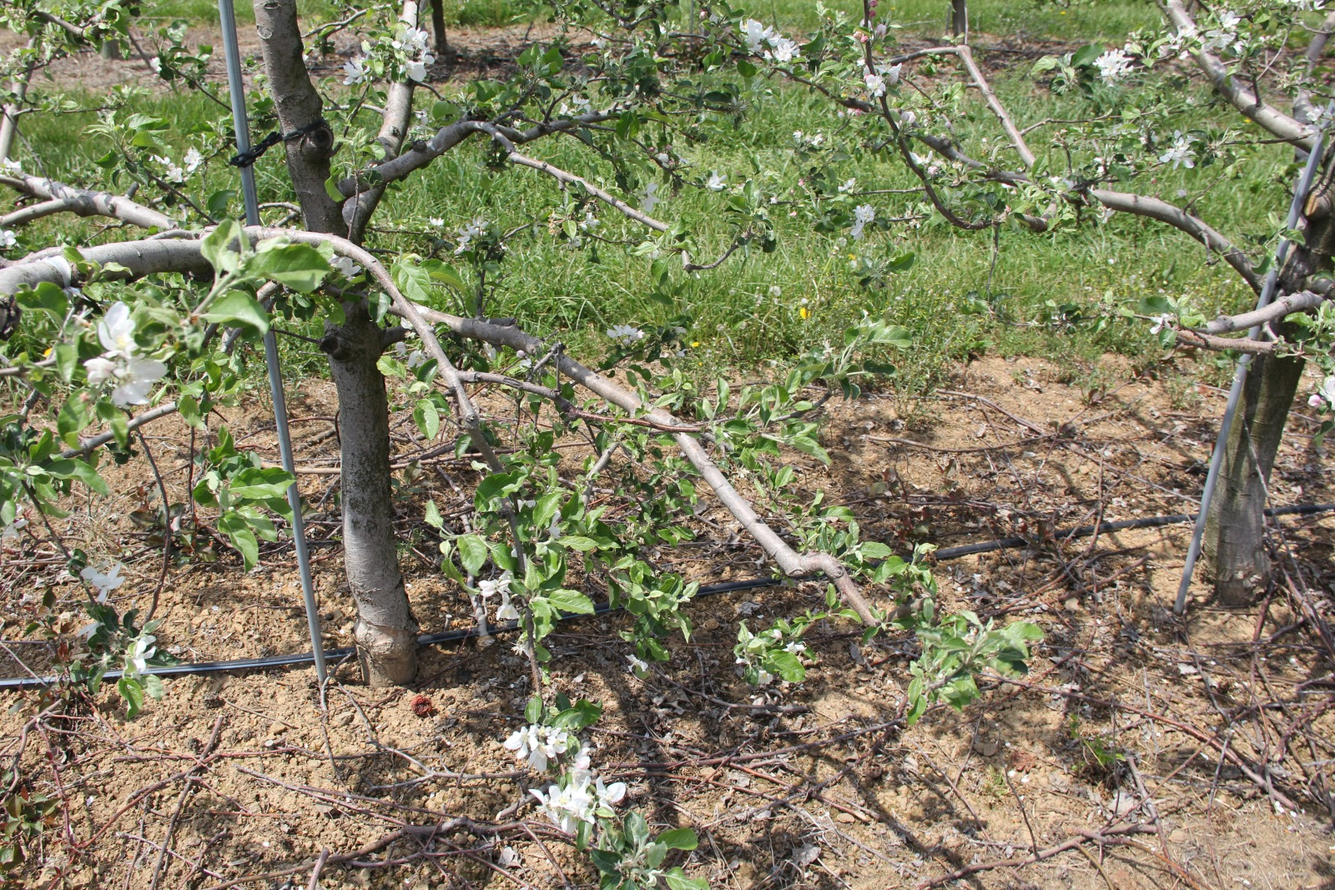flower: (529, 743, 626, 837), (504, 724, 569, 772), (392, 23, 441, 83), (740, 19, 801, 63), (118, 360, 166, 405), (479, 574, 522, 621), (101, 302, 133, 362), (860, 58, 902, 98), (81, 566, 127, 602), (1093, 49, 1135, 88), (1157, 25, 1201, 58), (1158, 137, 1199, 171), (849, 204, 877, 241), (343, 54, 370, 86), (327, 254, 361, 279), (83, 357, 118, 381), (607, 325, 647, 345), (1205, 28, 1237, 52), (134, 640, 158, 672), (77, 618, 105, 642), (644, 179, 661, 214), (1320, 375, 1335, 410), (706, 169, 728, 192), (184, 147, 203, 172), (1221, 11, 1241, 31), (165, 163, 184, 183), (0, 229, 22, 246), (1307, 105, 1326, 122), (1302, 124, 1321, 141), (567, 92, 590, 105), (857, 54, 866, 67), (560, 103, 568, 116)
